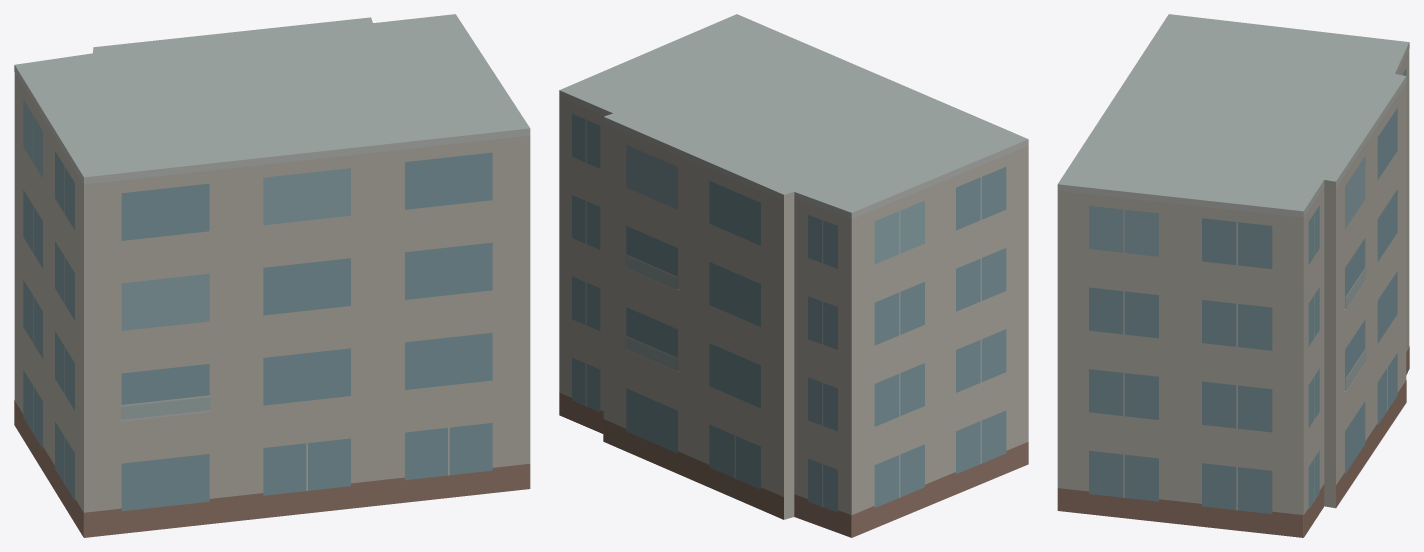
The model's file is survey-upis-32738155.glb.
3 views of the same model, side by side, from view 1: azimuth 30°, elevation 25°; view 2: azimuth 150°, elevation 25°; view 3: azimuth 270°, elevation 25° (orthographic). The views are drawn at different scales.
Visible parts, largest first — view 1: survey-upis-32738155.tmp; view 2: survey-upis-32738155.tmp; view 3: survey-upis-32738155.tmp.
Part boxes in pixels (x1,y1,x2,y2): survey-upis-32738155.tmp: (14,14,530,537); survey-upis-32738155.tmp: (559,14,1028,537); survey-upis-32738155.tmp: (1057,14,1409,537).
Size of the model in its own units: 16.07 by 12.4 by 12.12.
